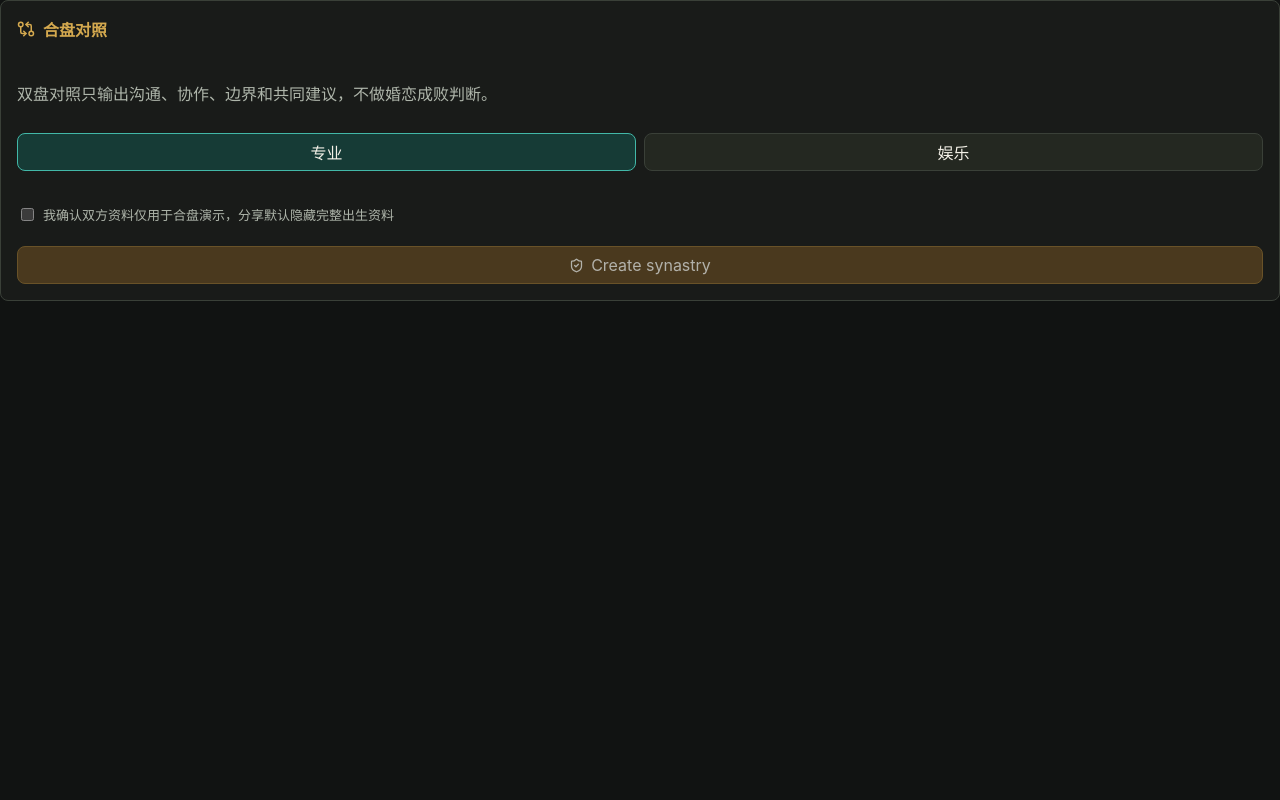
Test: phase 7 expansion UI › synastry panel requests consent-gated comparison and renders traceable share output
This screenshot has width=1280, height=800.
Check: the heading "合盘对照" is shown, box [43,17,107,41]
Click the checkbox labelled "我确认双方资料仅用于合盘演示，分享默认隐藏完整出生资料".
click(28, 214)  # box [21,208,34,221]
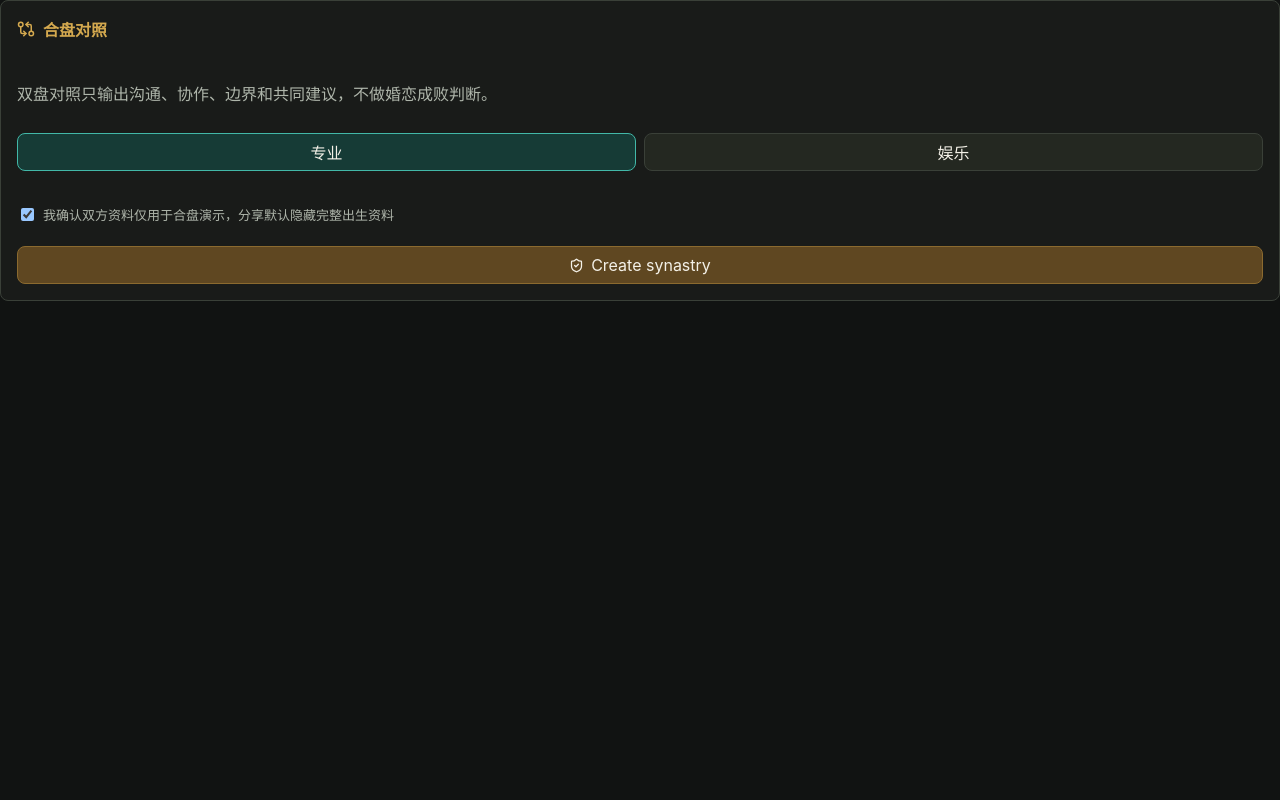
Click the button "Create synastry".
click(640, 265)  # box [17,246,1263,284]
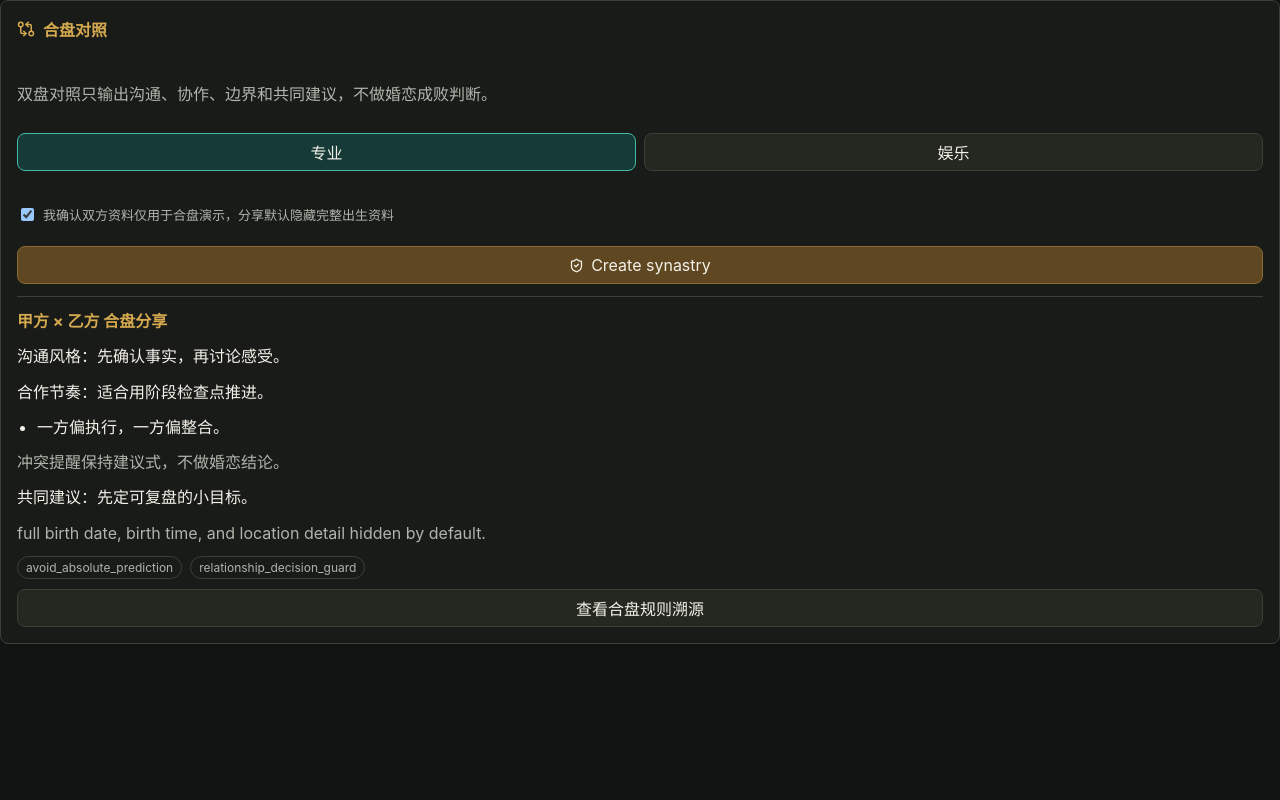
Check: the text "沟通风格：先确认事实，再讨论感受。" is shown, box [17,346,289,366]
Check: the text "甲方 × 乙方 合盘分享" is shown, box [17,311,167,331]
Click the button "查看合盘规则溯源".
click(640, 608)  # box [17,589,1263,627]
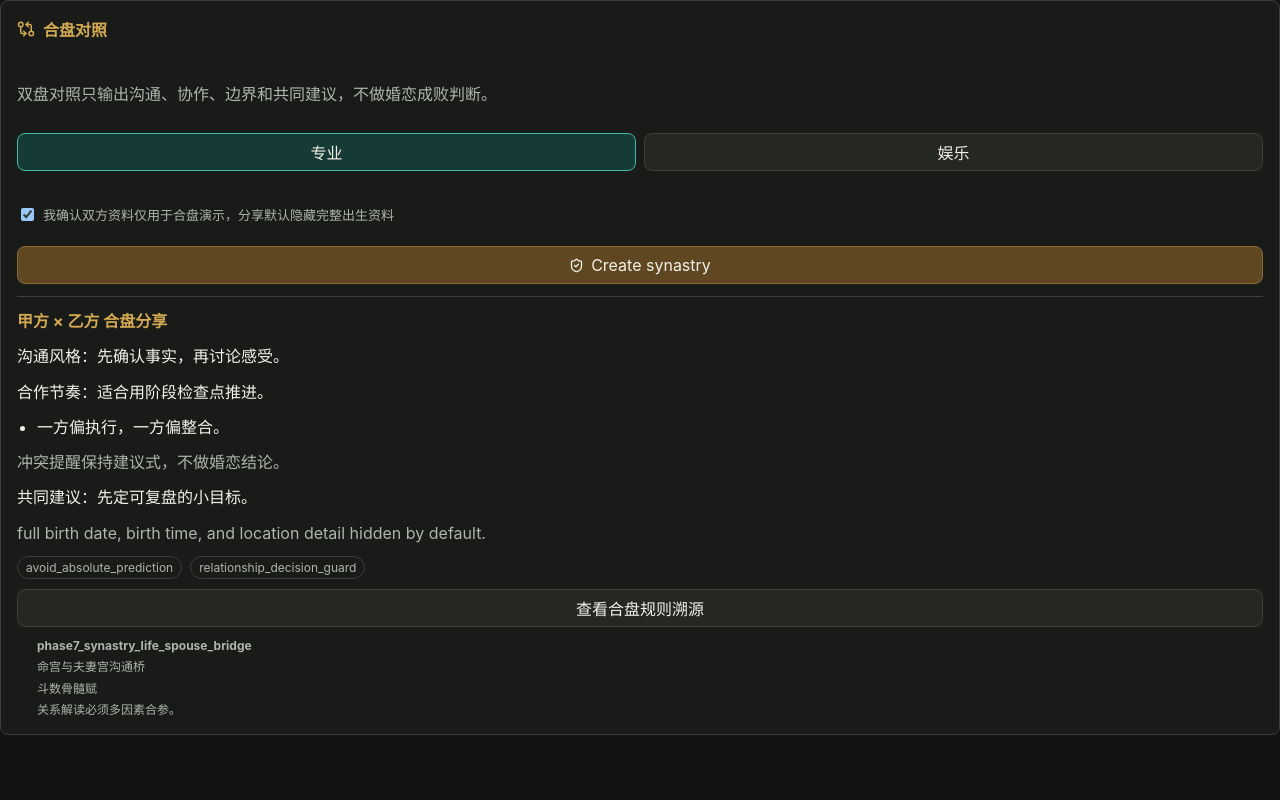
Check: the text "phase7_synastry_life_spouse_bridge" is shown, box [37,638,252,653]
